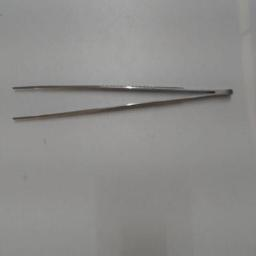DeBakey Dissector: (6, 75, 242, 131)
